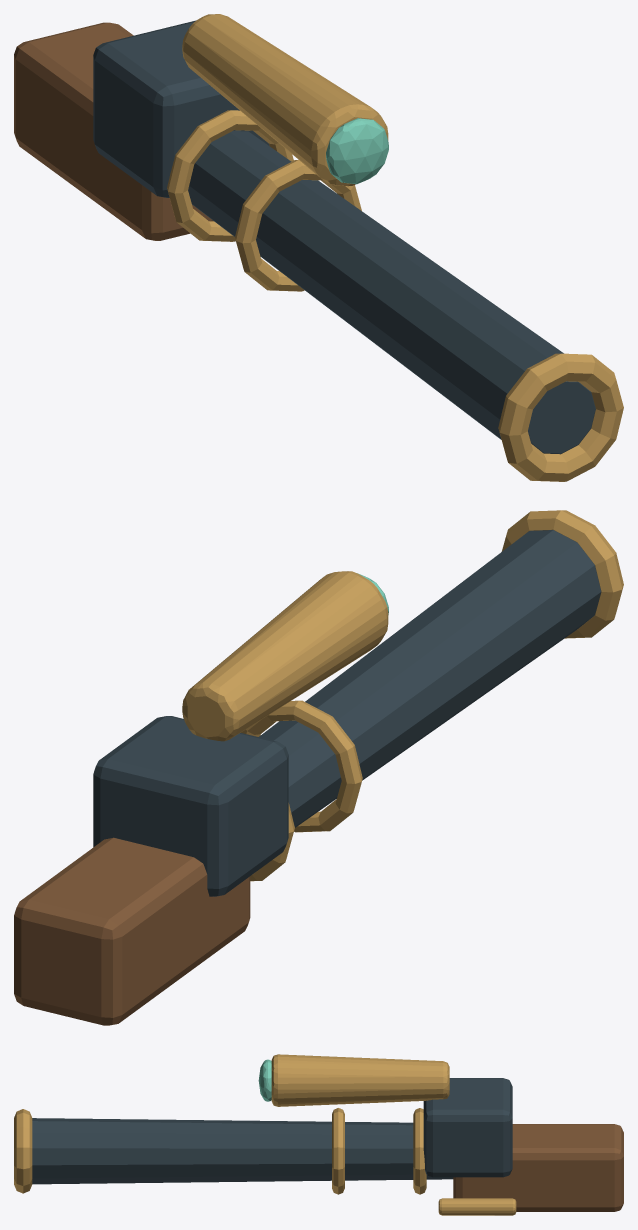
The model's file is weapon_longrifle.glb.
The picture shows the model from 3 angles, top to bottom: view 1: azimuth 30°, elevation 25°; view 2: azimuth 150°, elevation 25°; view 3: azimuth 270°, elevation 25°; orthographic projection. The views are drawn at different scales.
Parts seen in each view (by area): view 1: Barrel.001, FlaredMuzzle.001, CarvedStock.001, Lens; view 2: Barrel.001, CarvedStock.001, FlaredMuzzle.001; view 3: Barrel.001, FlaredMuzzle.001, CarvedStock.001, Lens.
Boxes of the visible parts, left/top/right/bottom form: Barrel.001: left=93, top=20, right=595, bottom=454; FlaredMuzzle.001: left=167, top=14, right=623, bottom=481; CarvedStock.001: left=14, top=22, right=213, bottom=240; Lens: left=326, top=118, right=388, bottom=184; Barrel.001: left=93, top=530, right=601, bottom=896; CarvedStock.001: left=14, top=837, right=250, bottom=1025; FlaredMuzzle.001: left=182, top=510, right=623, bottom=881; Barrel.001: left=32, top=1078, right=512, bottom=1184; FlaredMuzzle.001: left=14, top=1054, right=516, bottom=1215; CarvedStock.001: left=453, top=1124, right=623, bottom=1211; Lens: left=258, top=1059, right=271, bottom=1101.
Bounding box in the file's own units: 0.2679 × 0.4262 × 1.64.
